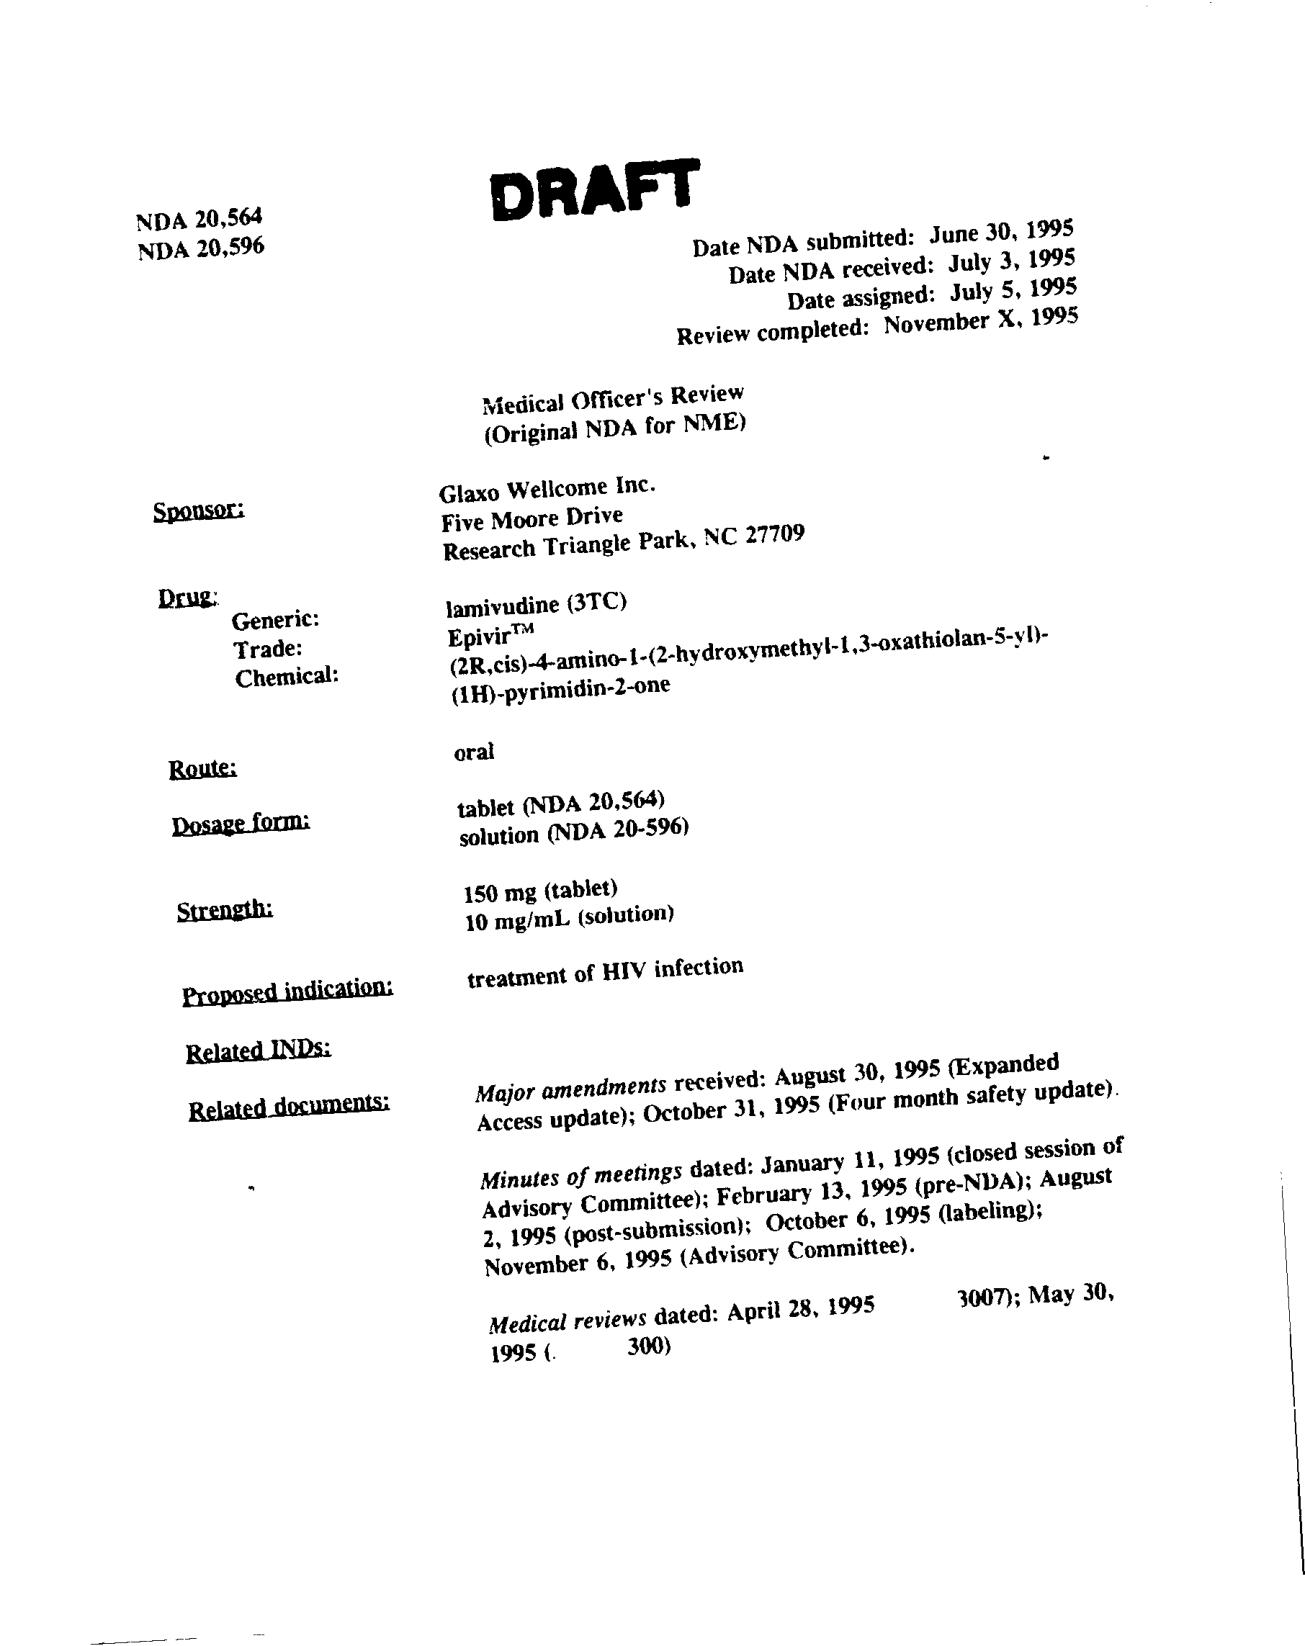nolines: (143, 476, 1135, 1363)
